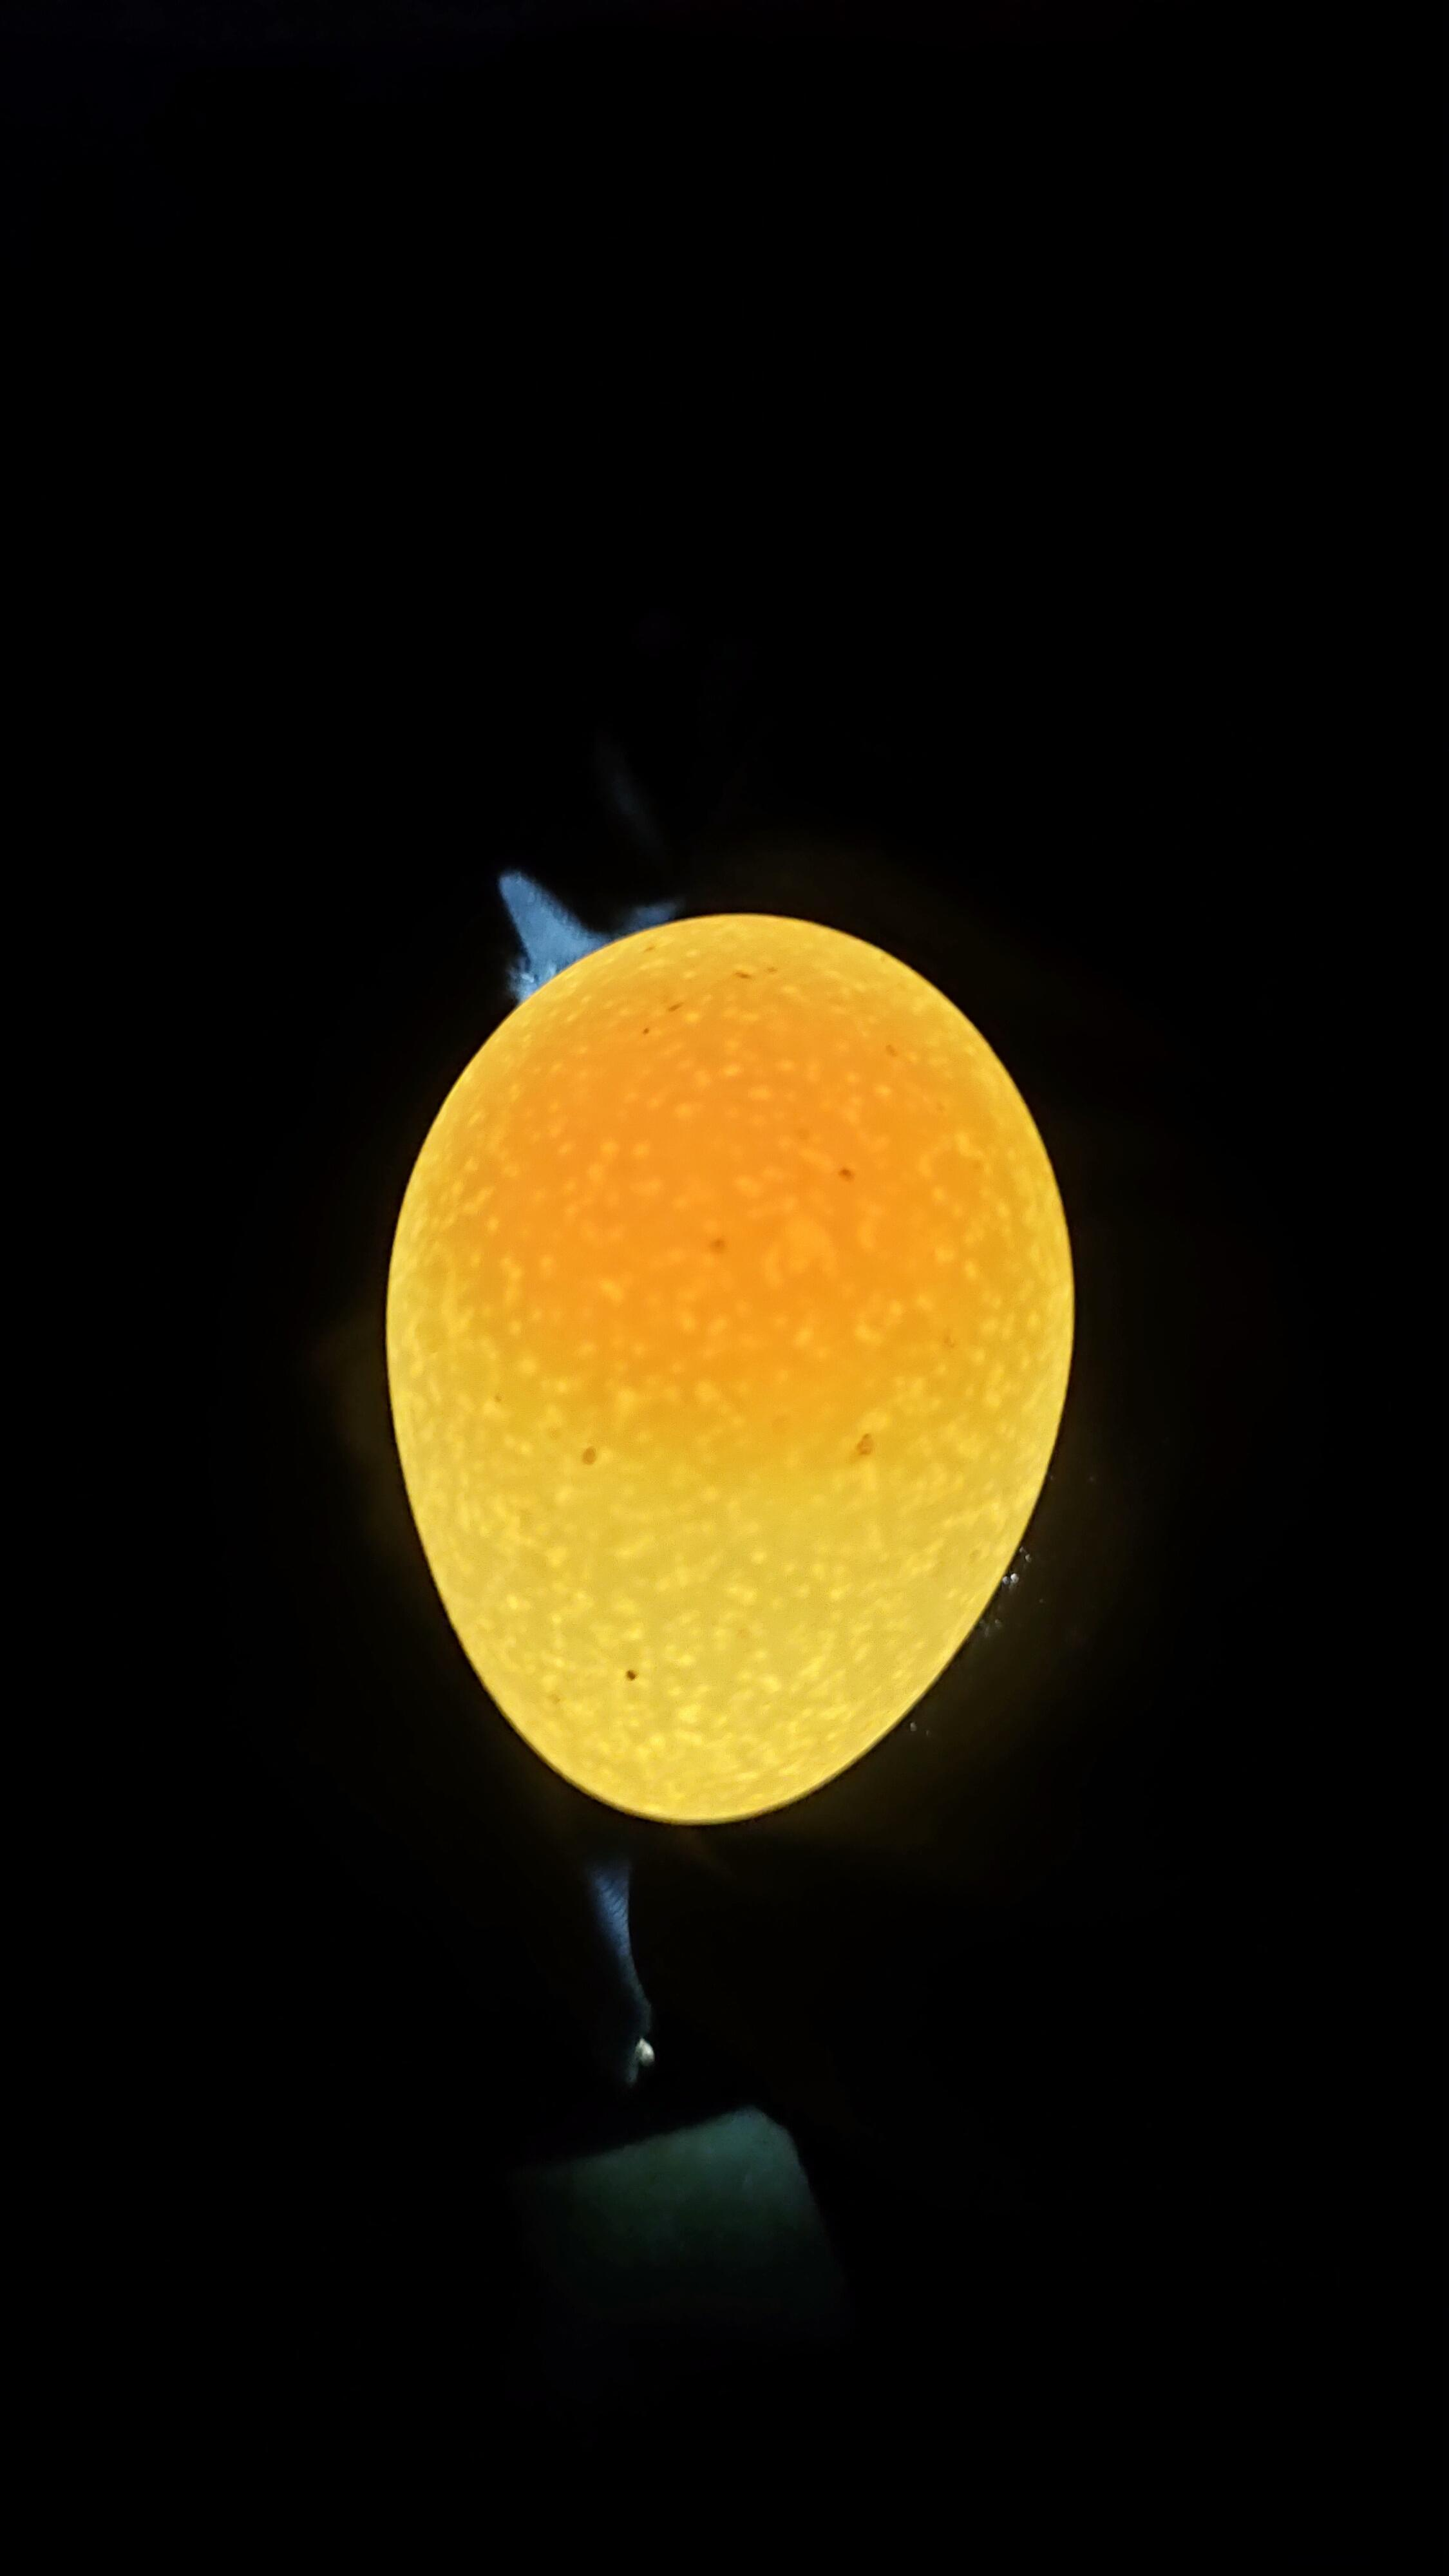A - Good: (322, 869, 1139, 1881)
